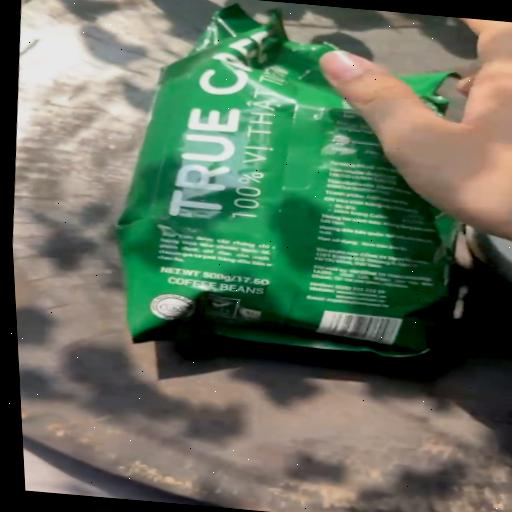cafe_xay: (116, 4, 458, 357)
